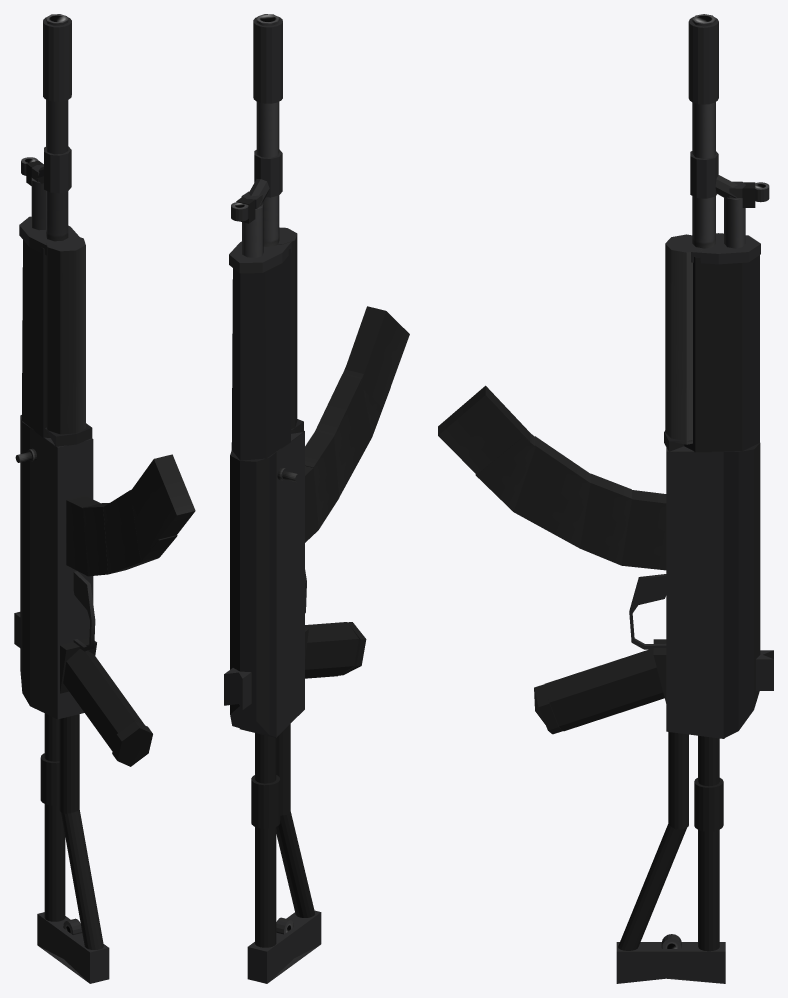
The picture shows the model from 3 angles, left to right: view 1: azimuth 30°, elevation 25°; view 2: azimuth 150°, elevation 25°; view 3: azimuth 270°, elevation 25°; orthographic projection. The views are drawn at different scales.
Parts seen in each view (by area): view 1: node_01ad04d0_9ae3_4723_a41a_f70a8fdbbab7_mesh0; view 2: node_01ad04d0_9ae3_4723_a41a_f70a8fdbbab7_mesh0; view 3: node_01ad04d0_9ae3_4723_a41a_f70a8fdbbab7_mesh0.
Part boxes in pixels (<box>): node_01ad04d0_9ae3_4723_a41a_f70a8fdbbab7_mesh0: <box>14,14,195,983</box>; node_01ad04d0_9ae3_4723_a41a_f70a8fdbbab7_mesh0: <box>224,14,409,983</box>; node_01ad04d0_9ae3_4723_a41a_f70a8fdbbab7_mesh0: <box>438,14,773,983</box>.
Size of the model in its own units: 0.0301 by 0.492 by 0.156.
